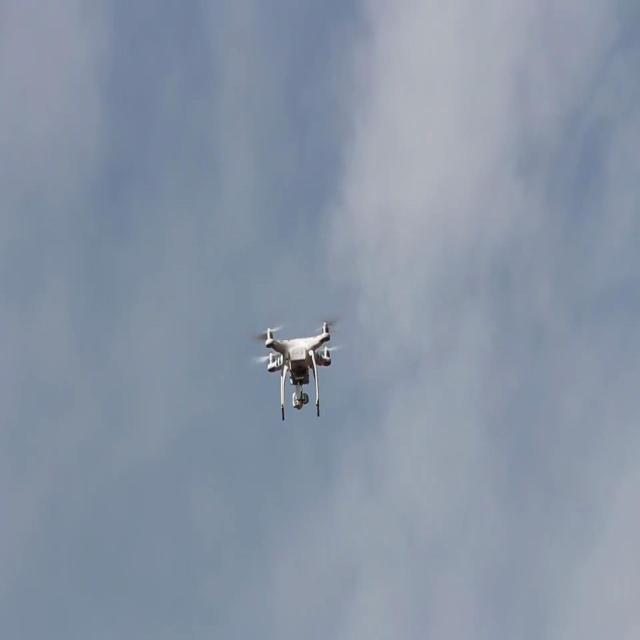drone: (259, 315, 338, 418)
